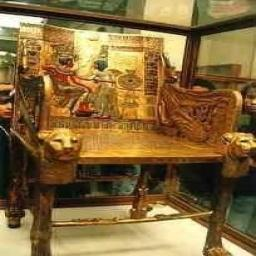Chair: (14, 21, 246, 256)
